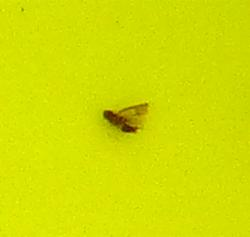Hemiptera: (100, 100, 150, 137)
